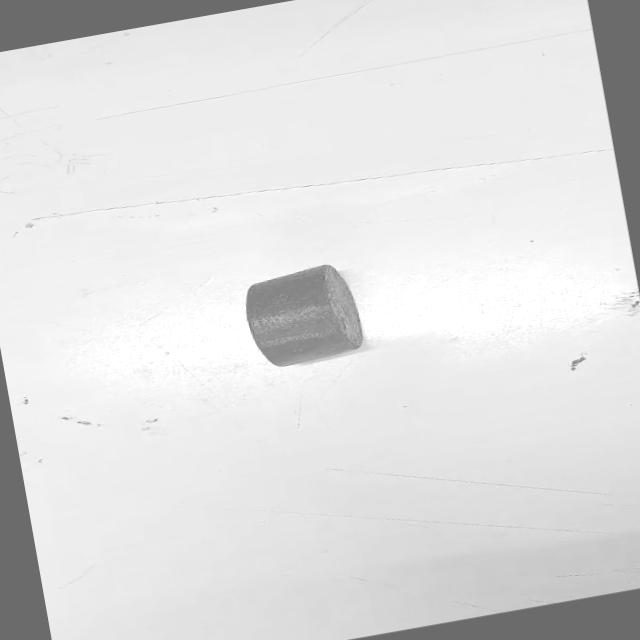bcircle: (244, 264, 363, 366)
